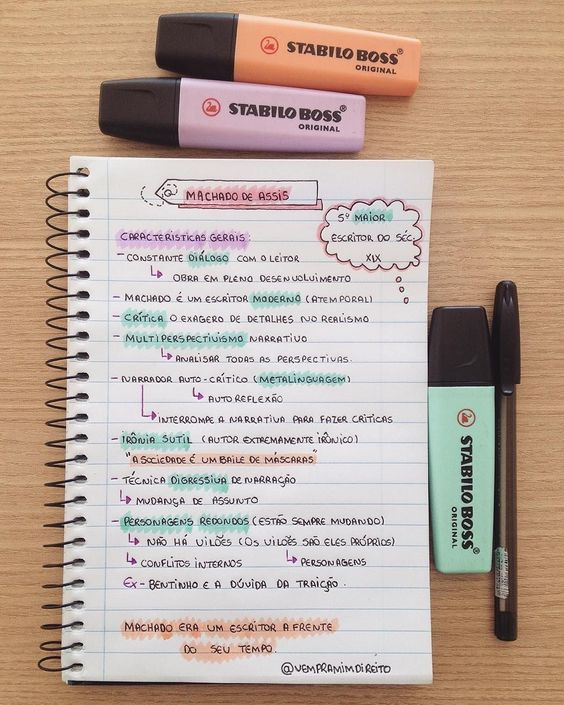page: (95, 159, 426, 681)
